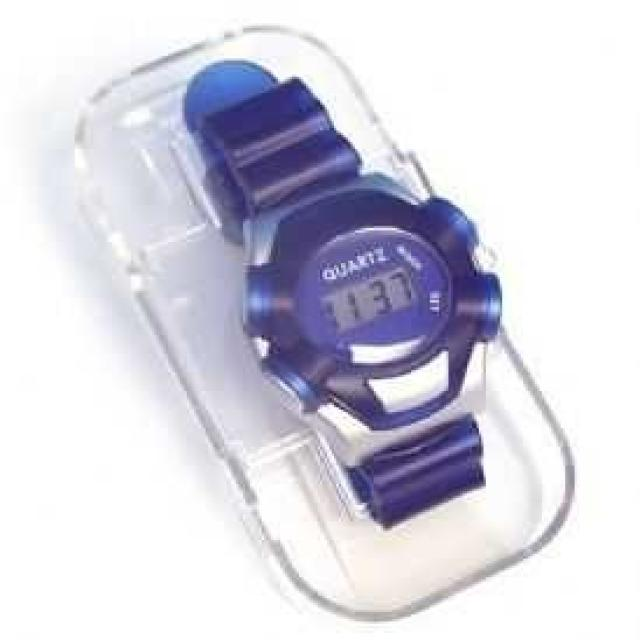watch: (279, 214, 457, 361)
